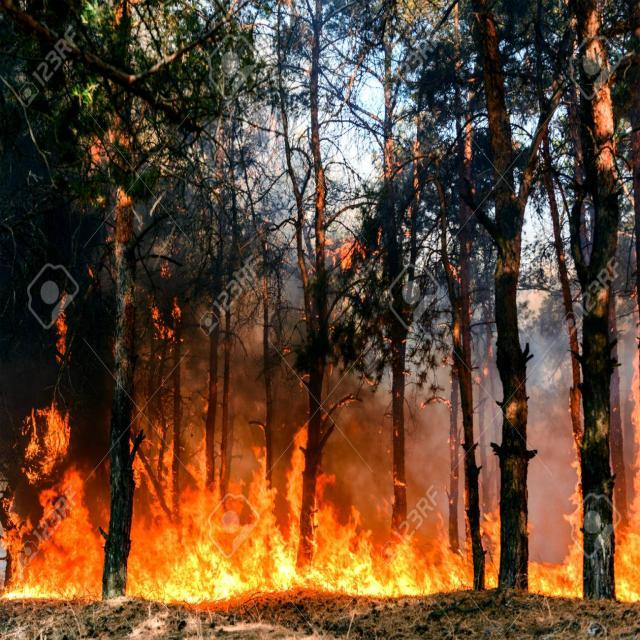Fire: (131, 478, 470, 605), (0, 450, 103, 594)
Smoke: (337, 364, 444, 524), (529, 342, 573, 559)
